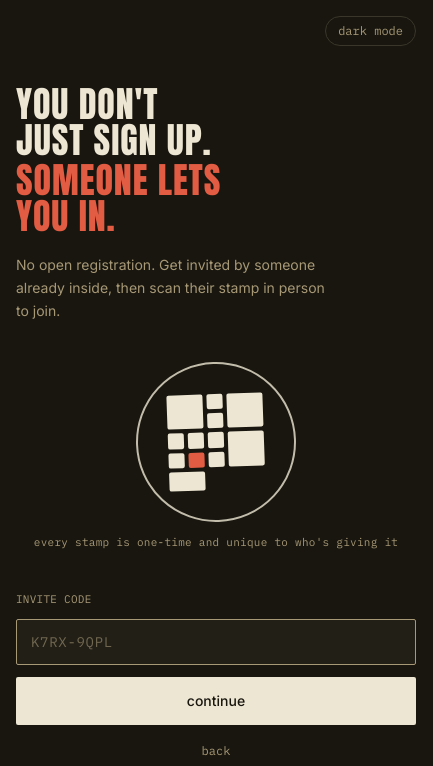
Scenario: OnboardingGate manual code entry › shows a clear error and does not navigate on an invalid manually-entered code
Type "BADCODE1" into the field labelled "invite code" at (216, 642), box [16,619,416,665]
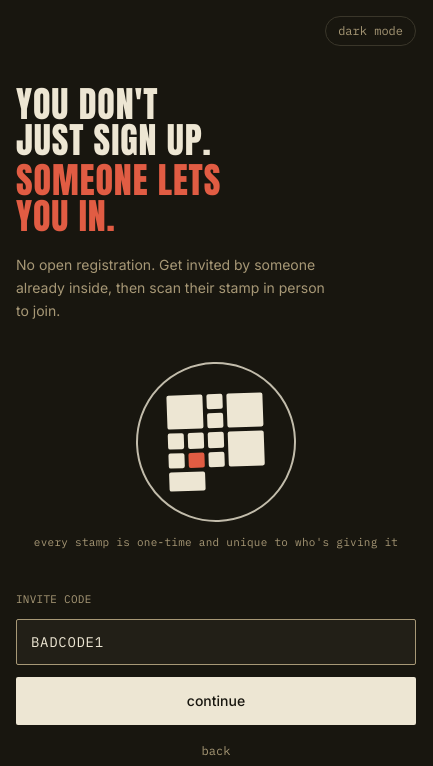
Click the button "continue" at (216, 701), box [16,677,416,725]
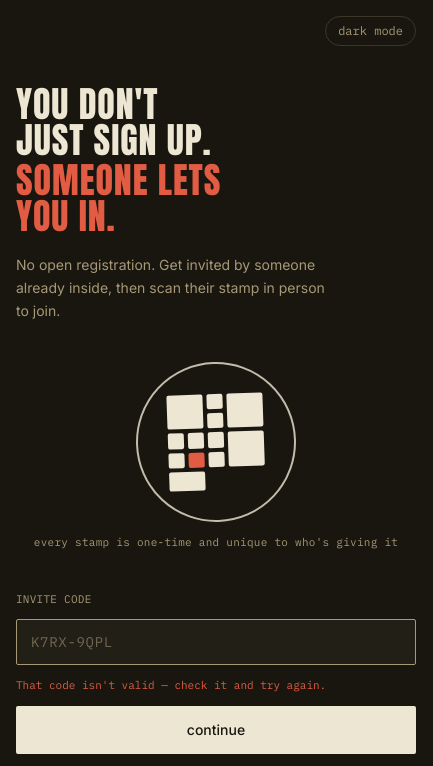
Now the text "That code isn't valid — check it and try again." is shown, box [16,678,326,692]
